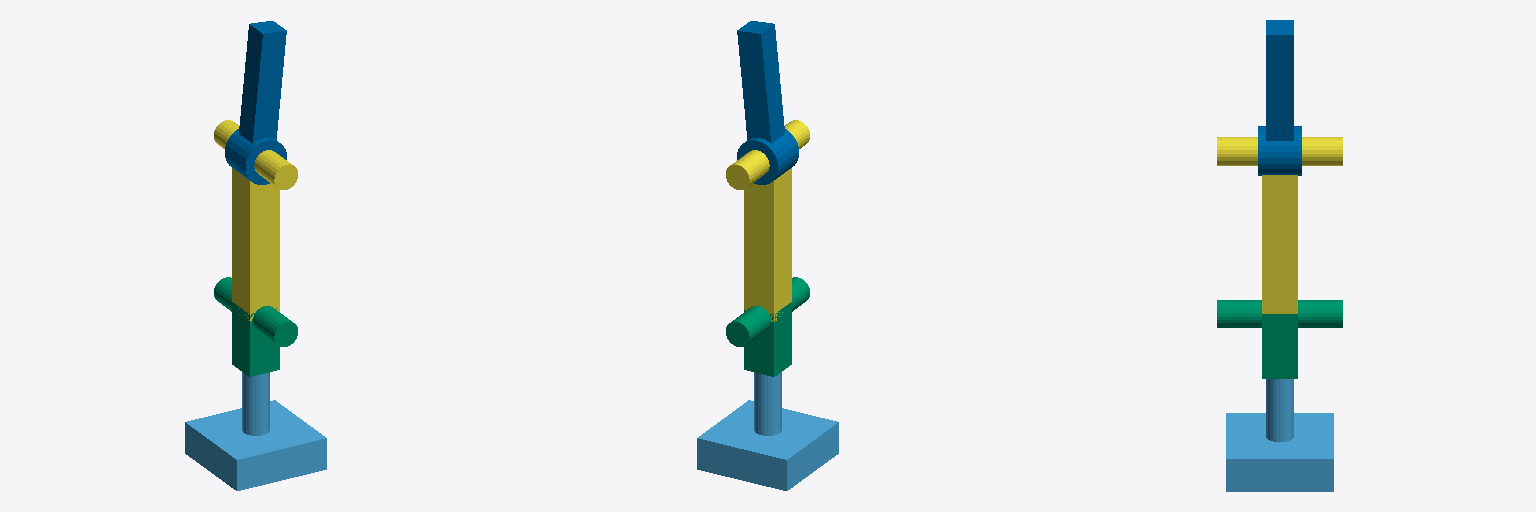
URDF robot description (arm):
<?xml version="1.0" encoding="utf-8"?>
<!--
  The M2 arm as a hand-written, Menagerie-style URDF: the M3 import fixture
  (plans/m3-sim-ready step 13). Same design line as arm.riggen — base ─
  shoulder (revolute Z at 0.040) ─ upper (revolute Y at 0.095) ─ fore
  (continuous Y at 0.195) — with everything an imported URDF throws at the
  document: package:// mesh paths that resolve beside the file, millimetre
  meshes with a scale, <inertial> on every part (the values riggen computed
  for arm.riggen), a box collision, collisions that repeat the visual, a
  collision mesh that does not (fore_hull.stl), one continuous joint, a
  <safety_controller> to warn on, a <mimic> to import, and the two dummy
  links riggen writes for arm.riggen's named frames (ADR-0012) — which the
  import deliberately keeps as links, not frames.
-->
<robot name="arm">
  <link name="base_link"/>

  <link name="base">
    <inertial>
      <origin xyz="0 0 0.012983425628" rpy="0 0 0"/>
      <mass value="0.215867486369"/>
      <inertia ixx="0.000085401248" ixy="0" ixz="0" iyy="0.000085401248" iyz="0" izz="0.000117319157"/>
    </inertial>
    <visual>
      <origin xyz="0 0 0" rpy="0 0 0"/>
      <geometry>
        <mesh filename="package://arm/base.stl" scale="0.001 0.001 0.001"/>
      </geometry>
    </visual>
    <collision>
      <origin xyz="0 0 0.01" rpy="0 0 0"/>
      <geometry>
        <box size="0.06 0.06 0.02"/>
      </geometry>
    </collision>
  </link>

  <link name="shoulder">
    <inertial>
      <origin xyz="0 0 0.046977030338" rpy="0 0 0"/>
      <mass value="0.080768098011"/>
      <inertia ixx="0.000027655685" ixy="0" ixz="0" iyy="0.00001290964" iyz="0" izz="0.000018814569"/>
    </inertial>
    <visual>
      <origin xyz="0 0 -0.04" rpy="0 0 0"/>
      <geometry>
        <mesh filename="package://arm/shoulder.stl" scale="0.001 0.001 0.001"/>
      </geometry>
    </visual>
    <collision>
      <origin xyz="0 0 -0.04" rpy="0 0 0"/>
      <geometry>
        <mesh filename="package://arm/shoulder.stl" scale="0.001 0.001 0.001"/>
      </geometry>
    </collision>
  </link>

  <link name="upper">
    <inertial>
      <origin xyz="0 0 0.062903962543" rpy="0 0 0"/>
      <mass value="0.066853501614"/>
      <inertia ixx="0.000082306594" ixy="0" ixz="0" iyy="0.000075534335" iyz="0" izz="0.000010624767"/>
    </inertial>
    <visual>
      <origin xyz="0 0 -0.095" rpy="0 0 0"/>
      <geometry>
        <mesh filename="package://arm/upper.stl" scale="0.001 0.001 0.001"/>
      </geometry>
    </visual>
    <collision>
      <origin xyz="0 0 -0.095" rpy="0 0 0"/>
      <geometry>
        <mesh filename="package://arm/upper.stl" scale="0.001 0.001 0.001"/>
      </geometry>
    </collision>
  </link>

  <link name="fore">
    <inertial>
      <origin xyz="0 0 0.027019120992" rpy="0 0 0"/>
      <mass value="0.037595893505"/>
      <inertia ixx="0.000028641623" ixy="0" ixz="0" iyy="0.000028840028" iyz="0" izz="0.0000024532"/>
    </inertial>
    <visual>
      <origin xyz="-0.09 -0.07 -0.135" rpy="0 0 0"/>
      <geometry>
        <mesh filename="package://arm/fore.stl" scale="0.001 0.001 0.001"/>
      </geometry>
    </visual>
    <collision>
      <origin xyz="-0.09 -0.07 -0.135" rpy="0 0 0"/>
      <geometry>
        <mesh filename="package://arm/fore_hull.stl" scale="0.001 0.001 0.001"/>
      </geometry>
    </collision>
  </link>

  <!-- Named frames: one massless link on a fixed joint each (ADR-0012). -->
  <link name="tcp"/>
  <link name="camera_mount"/>

  <joint name="base_joint" type="fixed">
    <origin xyz="0 0 0" rpy="0 0 0"/>
    <parent link="base_link"/>
    <child link="base"/>
  </joint>

  <joint name="shoulder_joint" type="revolute">
    <origin xyz="0 0 0.04" rpy="0 0 0"/>
    <parent link="base"/>
    <child link="shoulder"/>
    <axis xyz="0 0 1"/>
    <limit lower="-2.96705972839" upper="2.96705972839" effort="5" velocity="3"/>
    <dynamics damping="0.05" friction="0"/>
  </joint>

  <joint name="upper_joint" type="revolute">
    <origin xyz="0 0 0.055" rpy="0 0 0"/>
    <parent link="shoulder"/>
    <child link="upper"/>
    <axis xyz="0 1 0"/>
    <limit lower="-1.745329251994" upper="1.745329251994" effort="5" velocity="3"/>
    <dynamics damping="0.05" friction="0"/>
    <safety_controller soft_lower_limit="-1.7" soft_upper_limit="1.7" k_position="10" k_velocity="1"/>
  </joint>

  <joint name="fore_joint" type="continuous">
    <origin xyz="0 0 0.1" rpy="0 0 0"/>
    <parent link="upper"/>
    <child link="fore"/>
    <axis xyz="0 1 0"/>
    <dynamics damping="0.05" friction="0"/>
    <mimic joint="upper_joint" multiplier="-0.5" offset="0.1"/>
  </joint>

  <joint name="tcp_fixed" type="fixed">
    <origin xyz="0 0 0.08" rpy="0 0 0"/>
    <parent link="fore"/>
    <child link="tcp"/>
  </joint>

  <joint name="camera_mount_fixed" type="fixed">
    <origin xyz="0.03 0 0.015" rpy="0 1.570796326795 0"/>
    <parent link="base"/>
    <child link="camera_mount"/>
  </joint>
</robot>

--- Facts derived from the render (not from the file) ---
Views: 3 orthographic renders of the robot side by side, from view 1: azimuth 30°, elevation 25°; view 2: azimuth 150°, elevation 25°; view 3: azimuth 270°, elevation 25°.
Model arm with 7 links and 6 joints (2 revolute, 1 continuous, 3 fixed), rooted at base_link, posed every joint at zero.
Links seen in each view (by area): view 1: base, upper, fore, shoulder; view 2: base, upper, fore, shoulder; view 3: base, upper, fore, shoulder.
Link boxes in pixels (left/top/right/bottom): base: left=185, top=372, right=326, bottom=490; upper: left=214, top=120, right=297, bottom=321; fore: left=225, top=21, right=286, bottom=184; shoulder: left=214, top=277, right=297, bottom=376; base: left=697, top=372, right=838, bottom=490; upper: left=726, top=120, right=809, bottom=321; fore: left=737, top=21, right=798, bottom=184; shoulder: left=726, top=277, right=809, bottom=376; base: left=1226, top=379, right=1333, bottom=491; upper: left=1217, top=137, right=1342, bottom=313; fore: left=1258, top=20, right=1301, bottom=175; shoulder: left=1217, top=300, right=1342, bottom=378.
Bounding box of the posed robot: 0.06 × 0.07 × 0.2754 m (x, y, z).
Meshes: 4 distinct files referenced, 4 mesh visuals loaded (4 binary STL).
